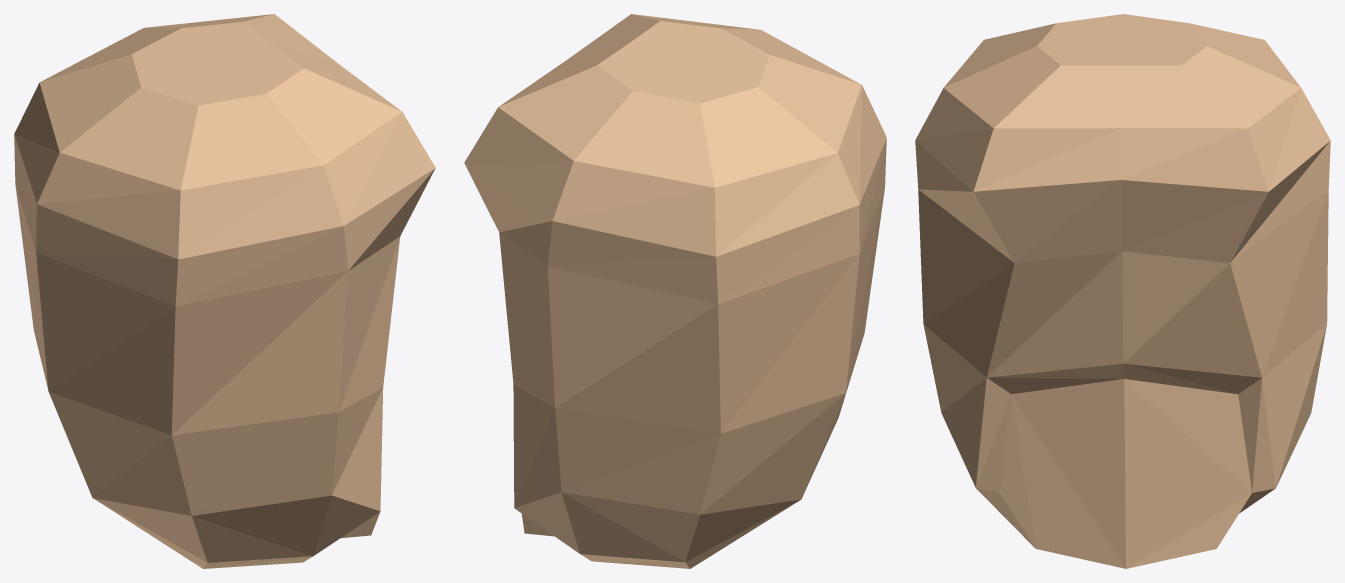
Rendered from LFing22_mesh.dae.
3 views of the same model, side by side, from view 1: azimuth 30°, elevation 25°; view 2: azimuth 150°, elevation 25°; view 3: azimuth 270°, elevation 25° (orthographic). The views are drawn at different scales.
Visible parts, largest first — view 1: LFing22; view 2: LFing22; view 3: LFing22.
Part boxes in pixels (x1,y1,x2,y2): LFing22: [14, 14, 435, 568]; LFing22: [464, 14, 886, 568]; LFing22: [915, 14, 1330, 568].
Size of the model in its own units: 0.0138 by 0.0208 by 0.0157.
